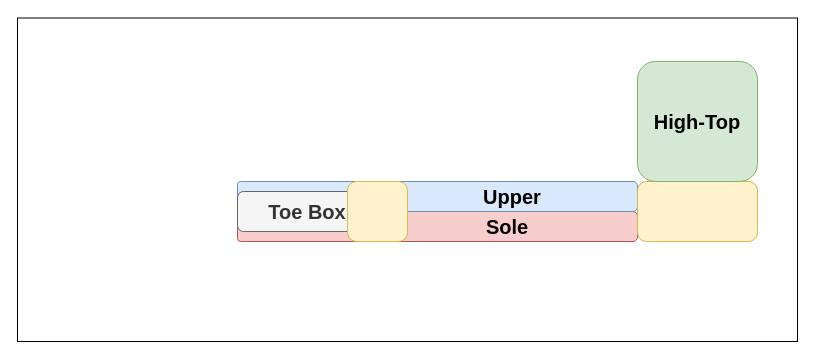
Image size: 815x359. Some labels were removed from this diagram. Each missing label, with the centre of its shape:
"Ankle Joint" goes at point (697, 211).
"MTP Joint" goes at point (377, 211).
